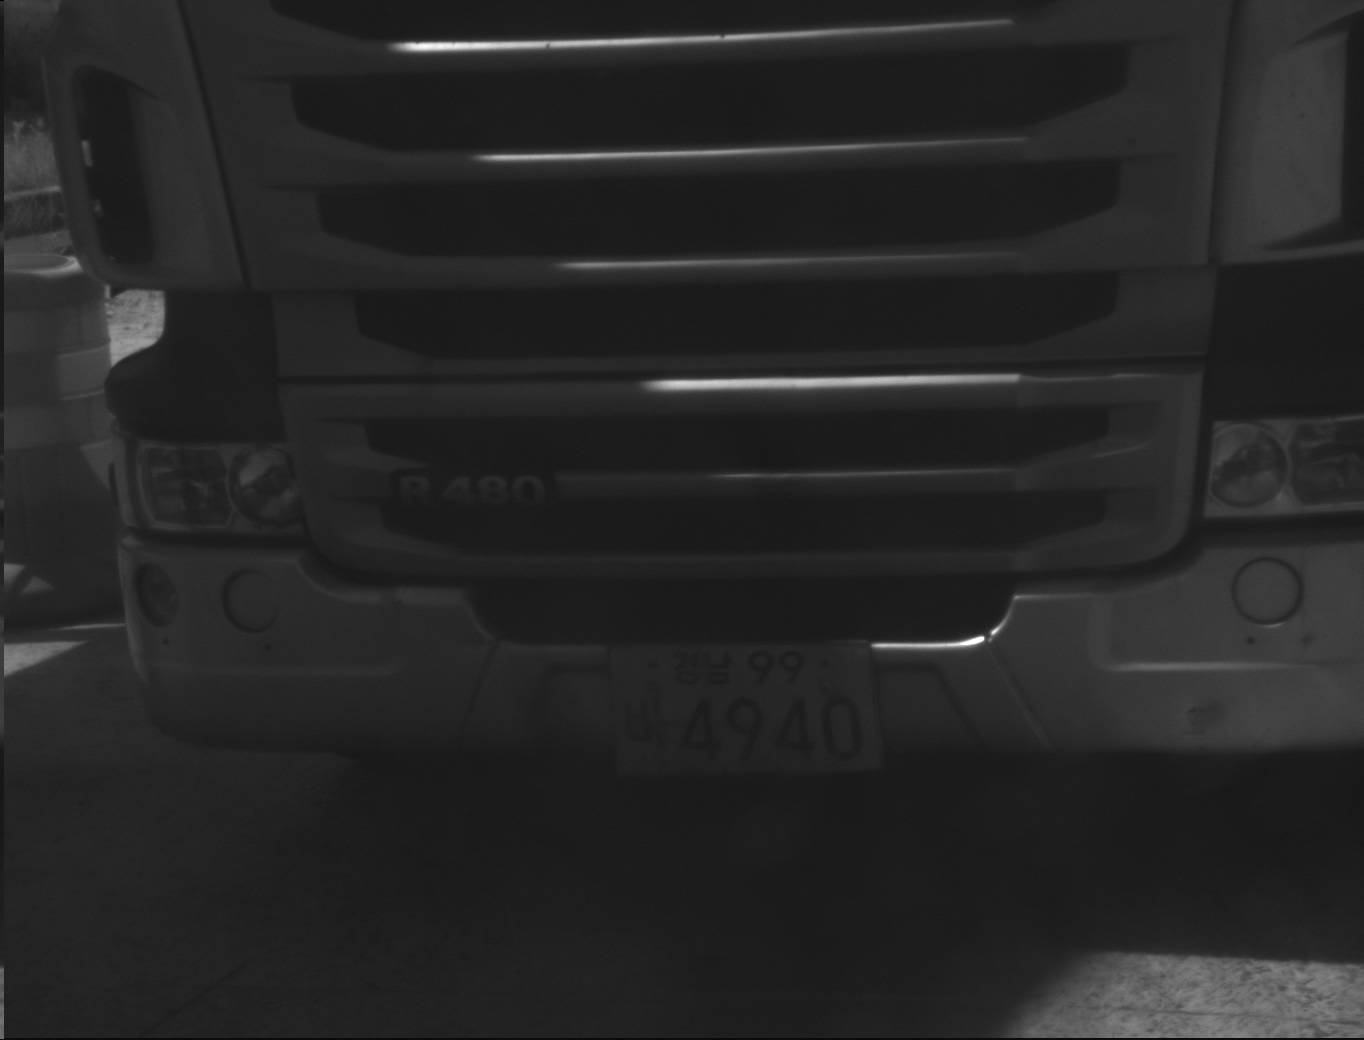car: (22, 1, 1355, 790)
plate: (602, 644, 883, 782)
